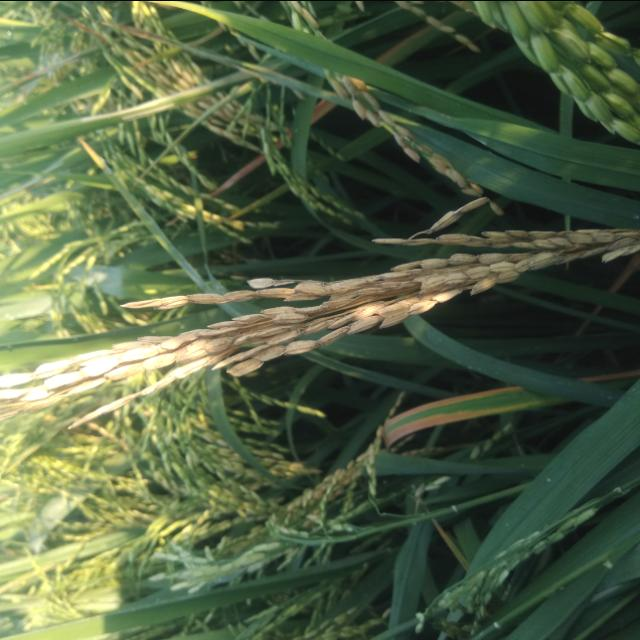Brown spot: (210, 142, 270, 196), (46, 4, 108, 46)
